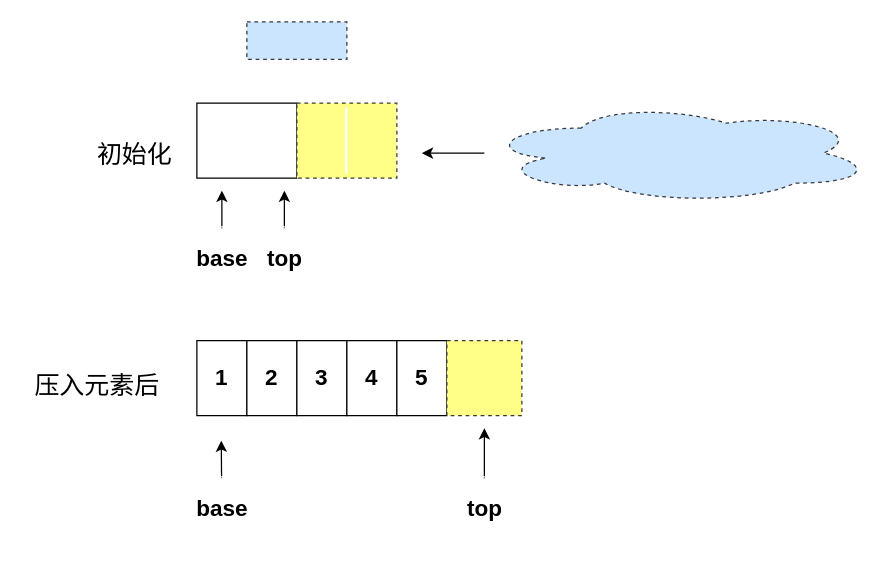
Image size: 894x564. Some labels were removed from this diagram. Here are the shapes that lost their labels. From the top down, the centre of each, then its label:
At point (296, 40): "顺序栈".
At point (677, 152): "假设数组尾部无限空间".
At point (484, 377): "NULL".
